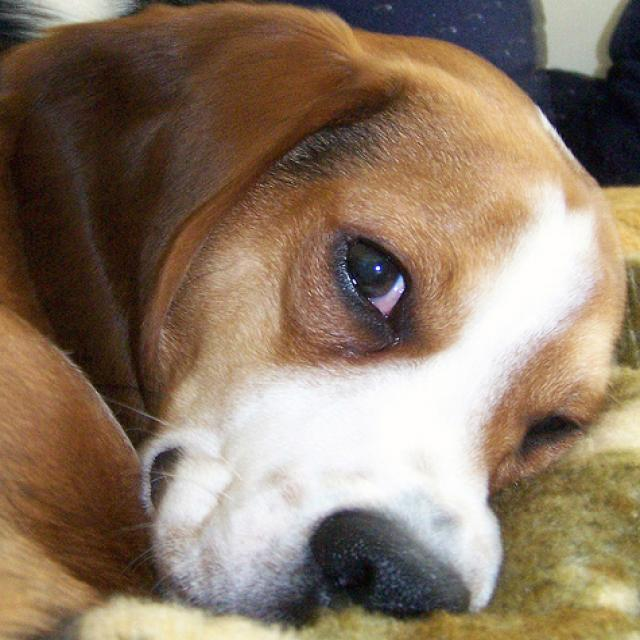dog-beagle: (1, 1, 637, 637)
